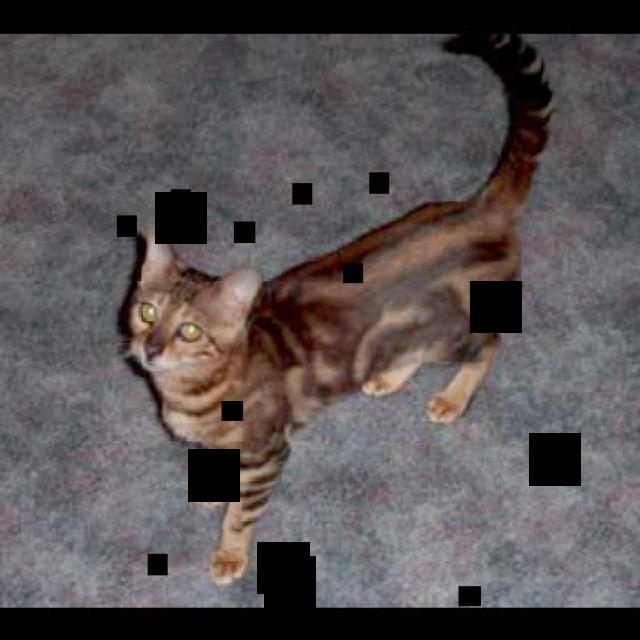unauthorized: (115, 28, 557, 586)
